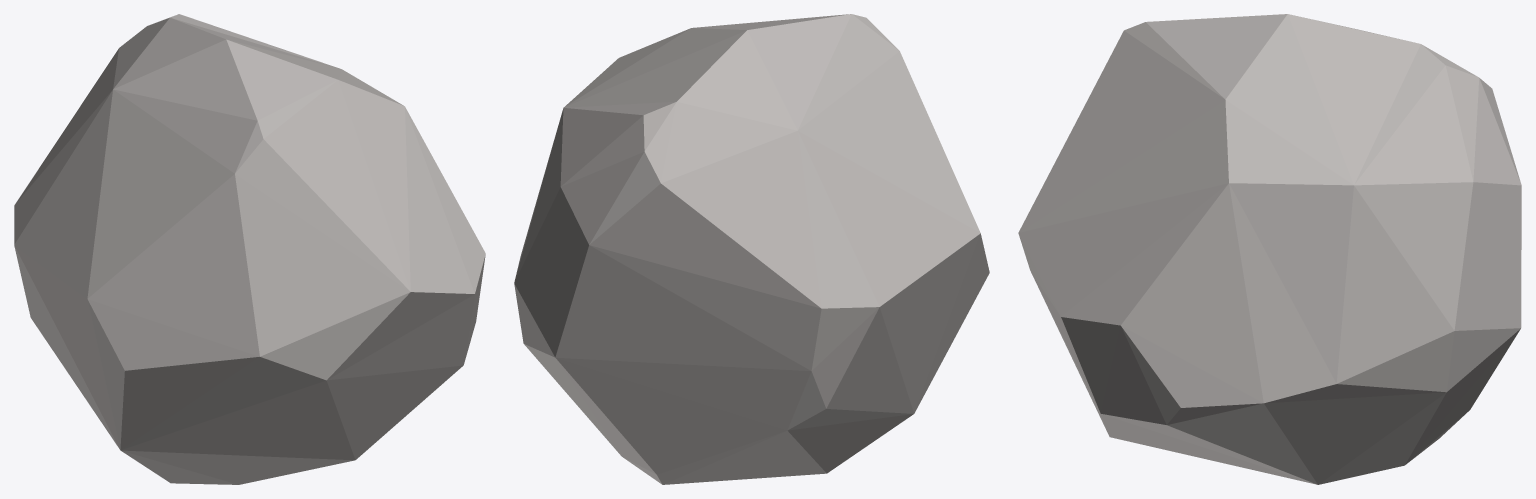
File: rock2.gltf
The picture shows the model from 3 angles, left to right: view 1: azimuth 30°, elevation 25°; view 2: azimuth 150°, elevation 25°; view 3: azimuth 270°, elevation 25°; orthographic projection. The views are drawn at different scales.
Visible parts, largest first — view 1: BigStone.006; view 2: BigStone.006; view 3: BigStone.006.
Part boxes in pixels (left/top/right/bottom): BigStone.006: left=14, top=14, right=485, bottom=484; BigStone.006: left=514, top=14, right=989, bottom=484; BigStone.006: left=1018, top=14, right=1521, bottom=484.
Bounding box in the file's own units: 1.63 × 1.68 × 1.7.
Materials: 1 (1 with a texture image).
